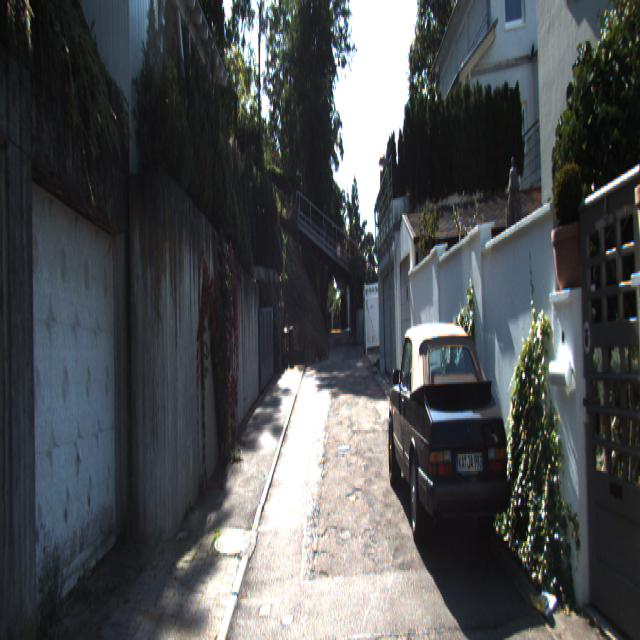Car: (384, 310, 514, 566)
